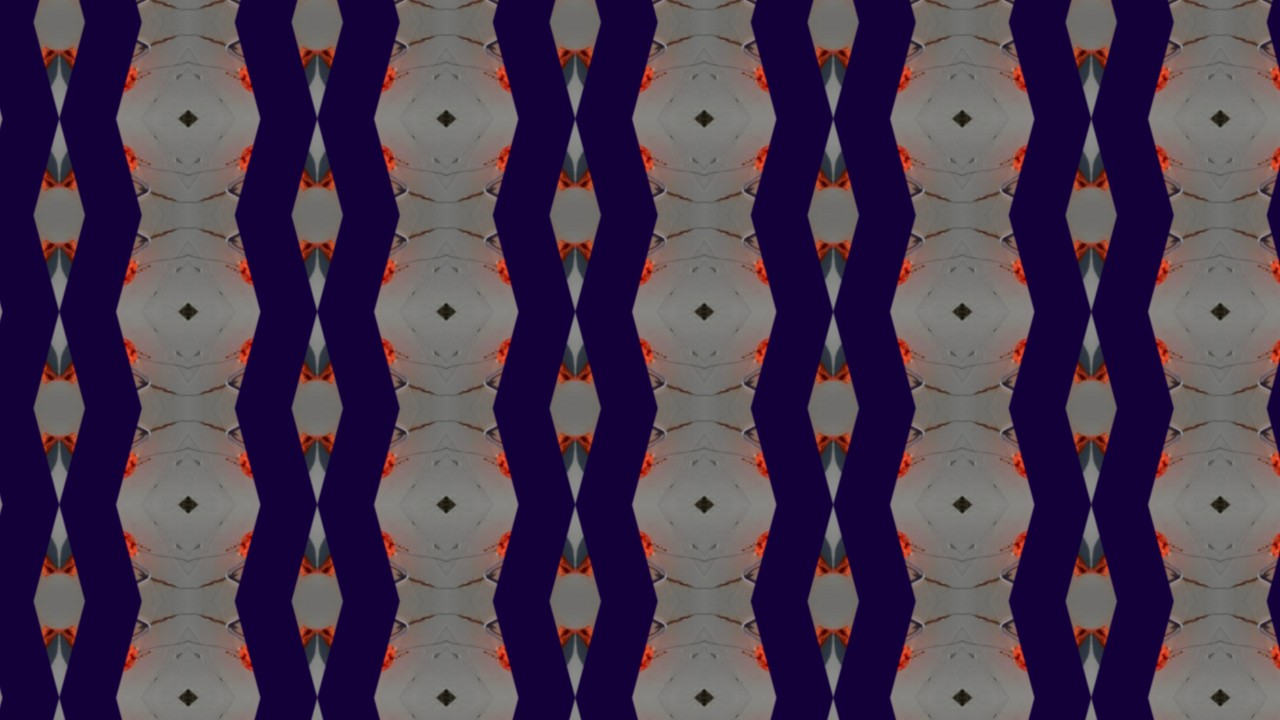chock: (57, 34, 141, 118), (232, 34, 316, 118), (316, 34, 400, 118), (491, 34, 575, 118), (575, 34, 659, 118), (750, 34, 834, 118), (834, 34, 918, 118), (1009, 34, 1093, 118), (1093, 34, 1177, 118), (57, 422, 141, 506), (232, 422, 316, 506), (316, 422, 400, 506), (491, 422, 575, 506), (575, 422, 659, 506), (750, 422, 834, 506), (834, 422, 918, 506), (1009, 422, 1093, 506), (1093, 422, 1177, 506), (57, 118, 141, 201), (232, 118, 316, 201), (316, 118, 400, 201), (491, 118, 575, 201), (575, 118, 659, 201), (750, 118, 834, 201), (834, 118, 918, 201), (1009, 118, 1093, 201), (1093, 118, 1177, 201), (57, 228, 141, 311), (232, 228, 316, 311), (316, 228, 400, 311), (491, 228, 575, 311), (575, 228, 659, 311), (750, 228, 834, 311), (834, 228, 918, 311), (1009, 228, 1093, 311), (1093, 228, 1177, 311), (57, 312, 141, 395), (232, 312, 316, 395), (316, 312, 400, 395), (491, 312, 575, 395), (575, 312, 659, 395), (750, 312, 834, 395), (834, 312, 918, 395), (1009, 312, 1093, 395), (1093, 312, 1177, 395), (57, 506, 141, 589), (232, 506, 316, 589), (316, 506, 400, 589), (491, 506, 575, 589), (575, 506, 659, 589), (750, 506, 834, 589), (834, 506, 918, 589), (1009, 506, 1093, 589), (1093, 506, 1177, 589), (57, 616, 141, 699), (232, 616, 316, 699), (316, 616, 400, 699), (491, 616, 575, 699), (575, 616, 659, 699), (750, 616, 834, 699), (834, 616, 918, 699), (1009, 616, 1093, 699), (1093, 616, 1177, 699), (0, 34, 57, 118), (0, 422, 57, 506), (0, 118, 57, 201), (0, 228, 57, 311), (0, 312, 57, 395), (0, 506, 57, 589), (0, 616, 57, 699), (57, 700, 141, 720), (232, 700, 316, 720), (316, 700, 400, 720), (491, 700, 575, 720), (575, 700, 659, 720), (750, 700, 834, 720), (834, 700, 918, 720), (1009, 700, 1093, 720), (1093, 700, 1177, 720), (0, 700, 57, 720), (1268, 34, 1280, 118), (1268, 422, 1280, 506), (1268, 118, 1280, 201), (1268, 228, 1280, 311), (1268, 312, 1280, 395), (1268, 506, 1280, 589), (1268, 616, 1280, 699)
